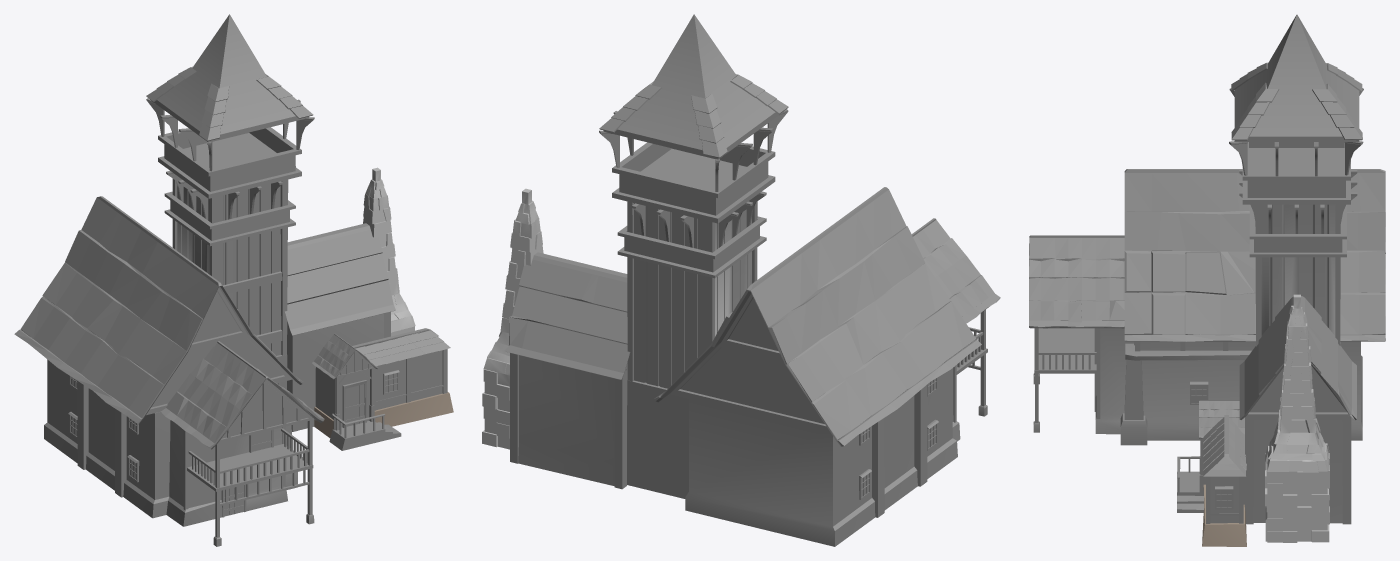
Rendered from Guild_House.FBX.
3 views of the same model, side by side, from view 1: azimuth 30°, elevation 25°; view 2: azimuth 150°, elevation 25°; view 3: azimuth 270°, elevation 25° (orthographic). The views are drawn at different scales.
Parts seen in each view (by area): view 1: Guild House; view 2: Guild House; view 3: Guild House.
Part boxes in pixels (<box>): Guild House: <box>14,14,453,546</box>; Guild House: <box>482,14,1000,546</box>; Guild House: <box>1029,14,1385,546</box>.
Bounding box in the file's own units: 7127 × 5775 × 7833.
Materials: 5 (2 with a texture image).
